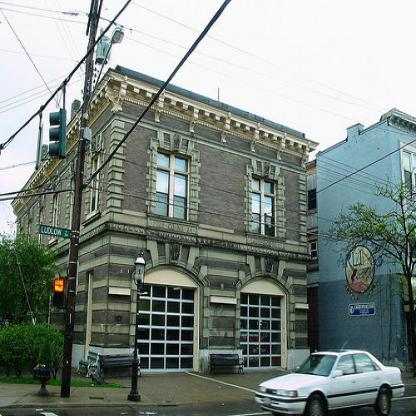car: (253, 349, 406, 415)
